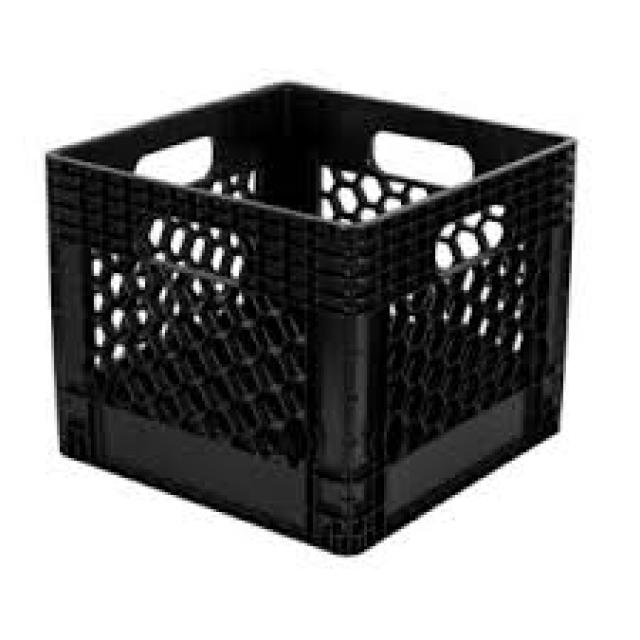basket: (27, 69, 580, 565)
